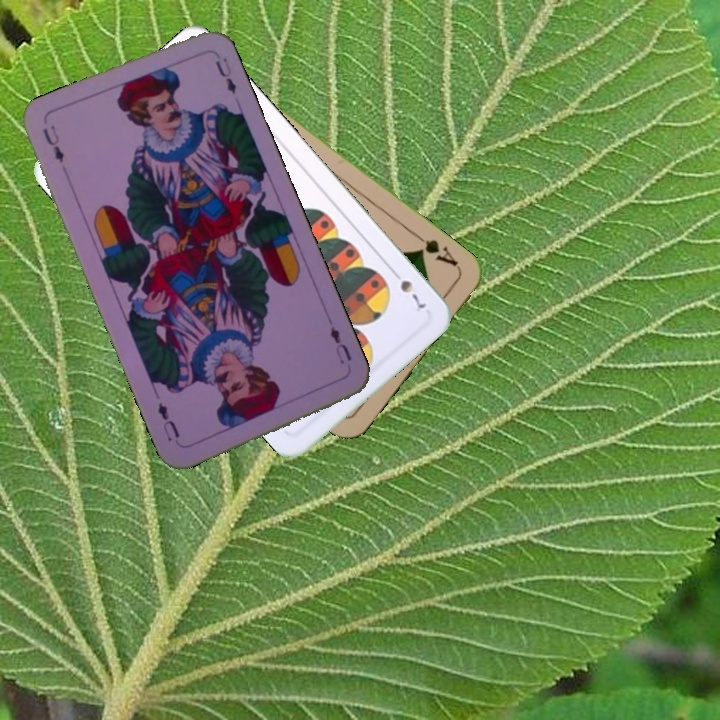EU: (38, 121, 67, 165), (326, 322, 354, 367)
GA: (411, 229, 461, 271)
S7: (387, 265, 429, 312)
